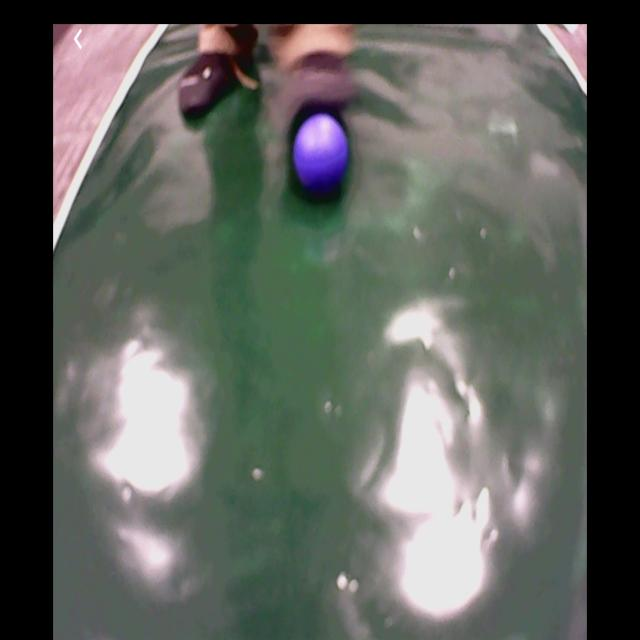ball: (293, 114, 349, 188)
